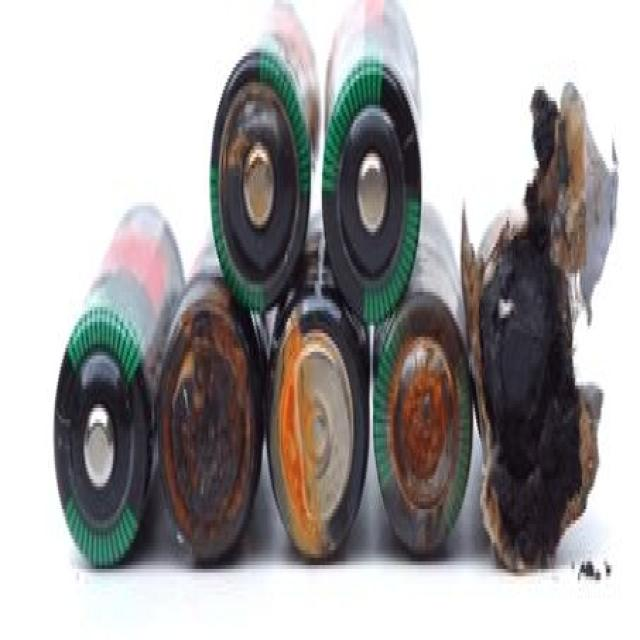electronic: (193, 9, 433, 334)
